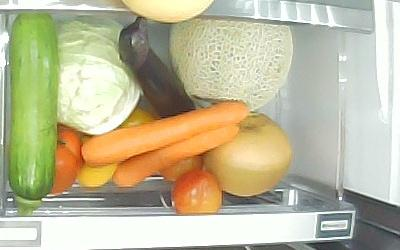cabbage: (57, 15, 143, 136)
carrot: (80, 101, 250, 167), (112, 124, 240, 188)
eggplant: (117, 15, 197, 119)
melon: (167, 19, 294, 111)
pear: (204, 110, 293, 197)
prune: (171, 169, 221, 214), (159, 155, 202, 181)
tangerine: (75, 135, 116, 188), (116, 108, 157, 129)
zucchini: (8, 13, 58, 217)
